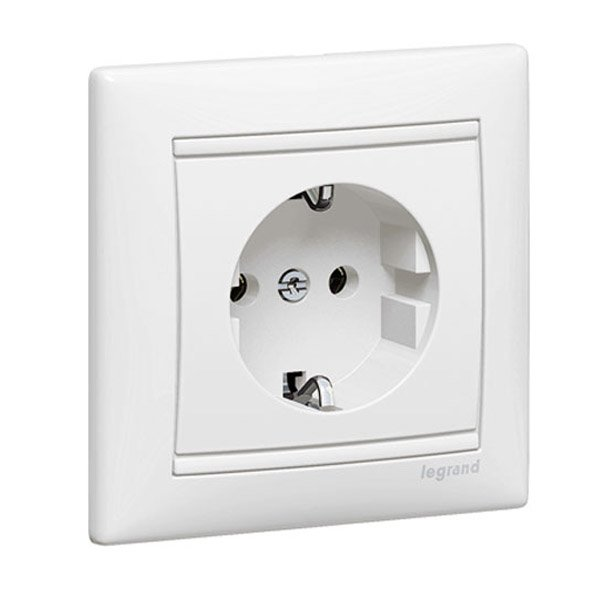raccoon: (226, 175, 442, 420)
